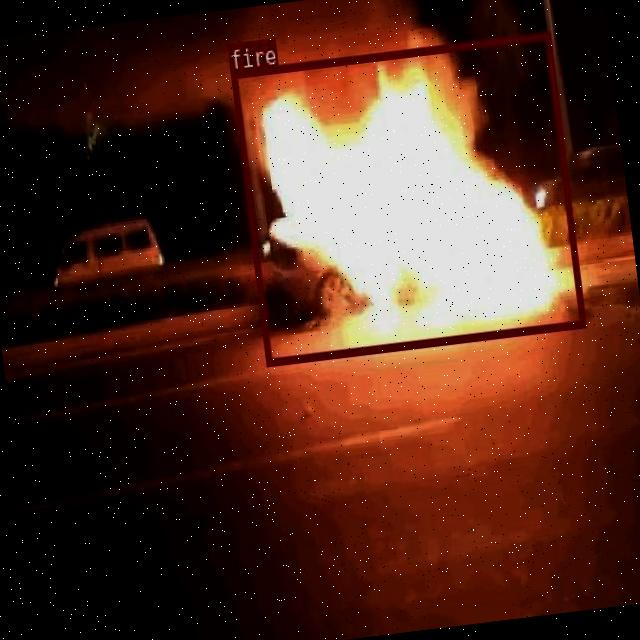fire: (228, 31, 584, 364)
